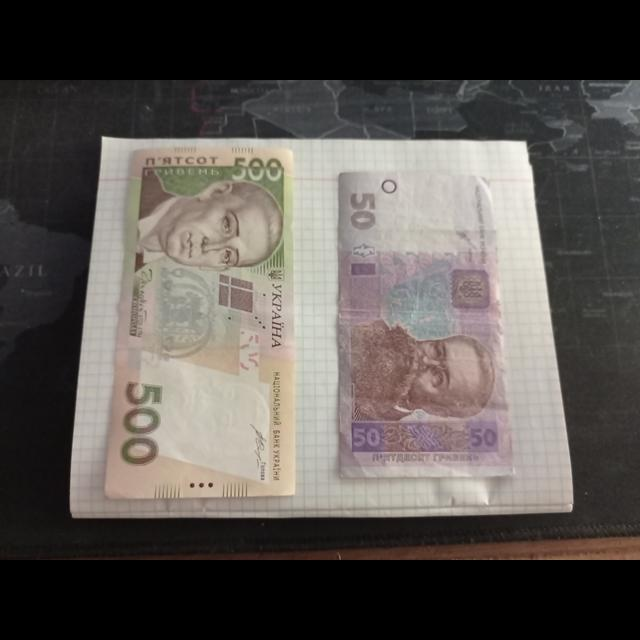500uah: (103, 149, 295, 499)
50uah: (338, 174, 512, 476)
